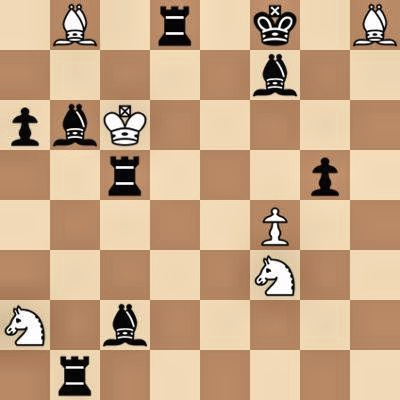black-bishop: (250, 50, 300, 100), (50, 100, 100, 150), (100, 300, 150, 350)
black-king: (250, 0, 300, 50)
black-pawn: (0, 100, 50, 150), (300, 150, 350, 200)
black-rook: (150, 0, 200, 50), (100, 150, 150, 200), (50, 350, 100, 400)
white-bishop: (50, 0, 100, 50), (350, 0, 400, 50)
white-king: (100, 100, 150, 150)
white-knight: (250, 250, 300, 300), (0, 300, 50, 350)
white-pawn: (250, 200, 300, 250)
